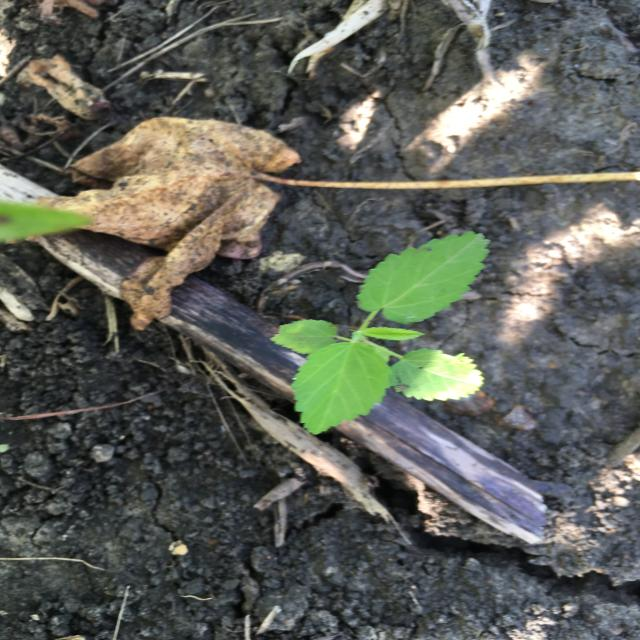PricklySida: (266, 229, 494, 438)
